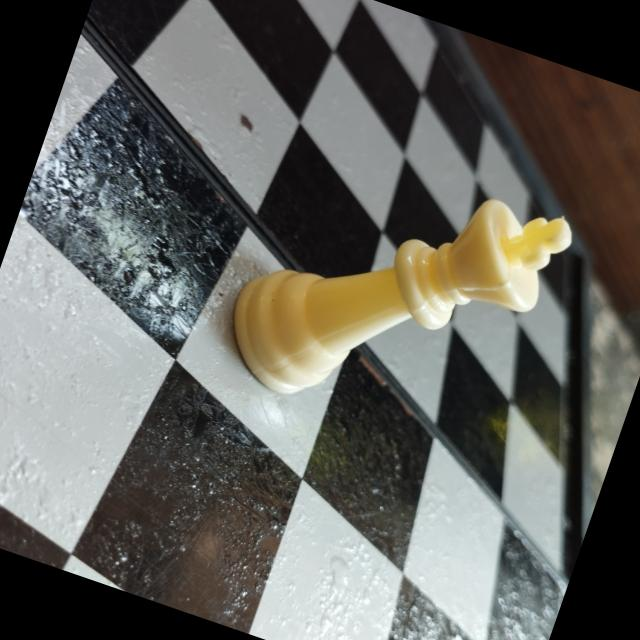White King: (206, 109, 587, 471), (0, 298, 466, 471)
